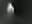person: (7, 4, 16, 20)
